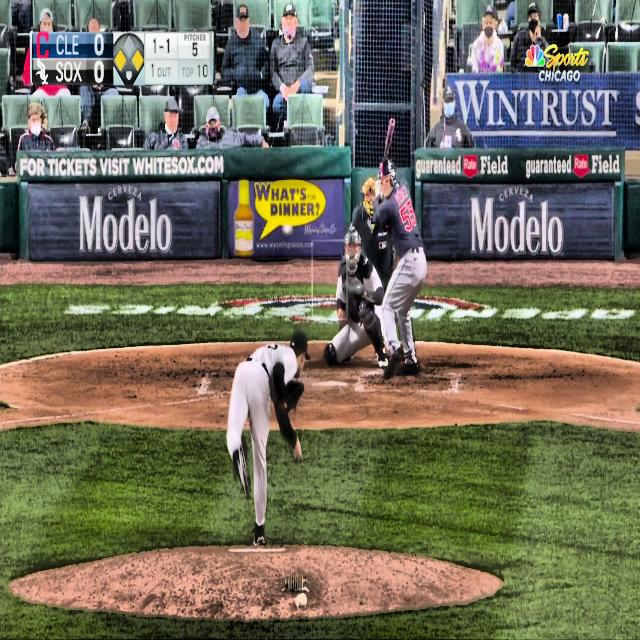baseball: (281, 223, 294, 237)
